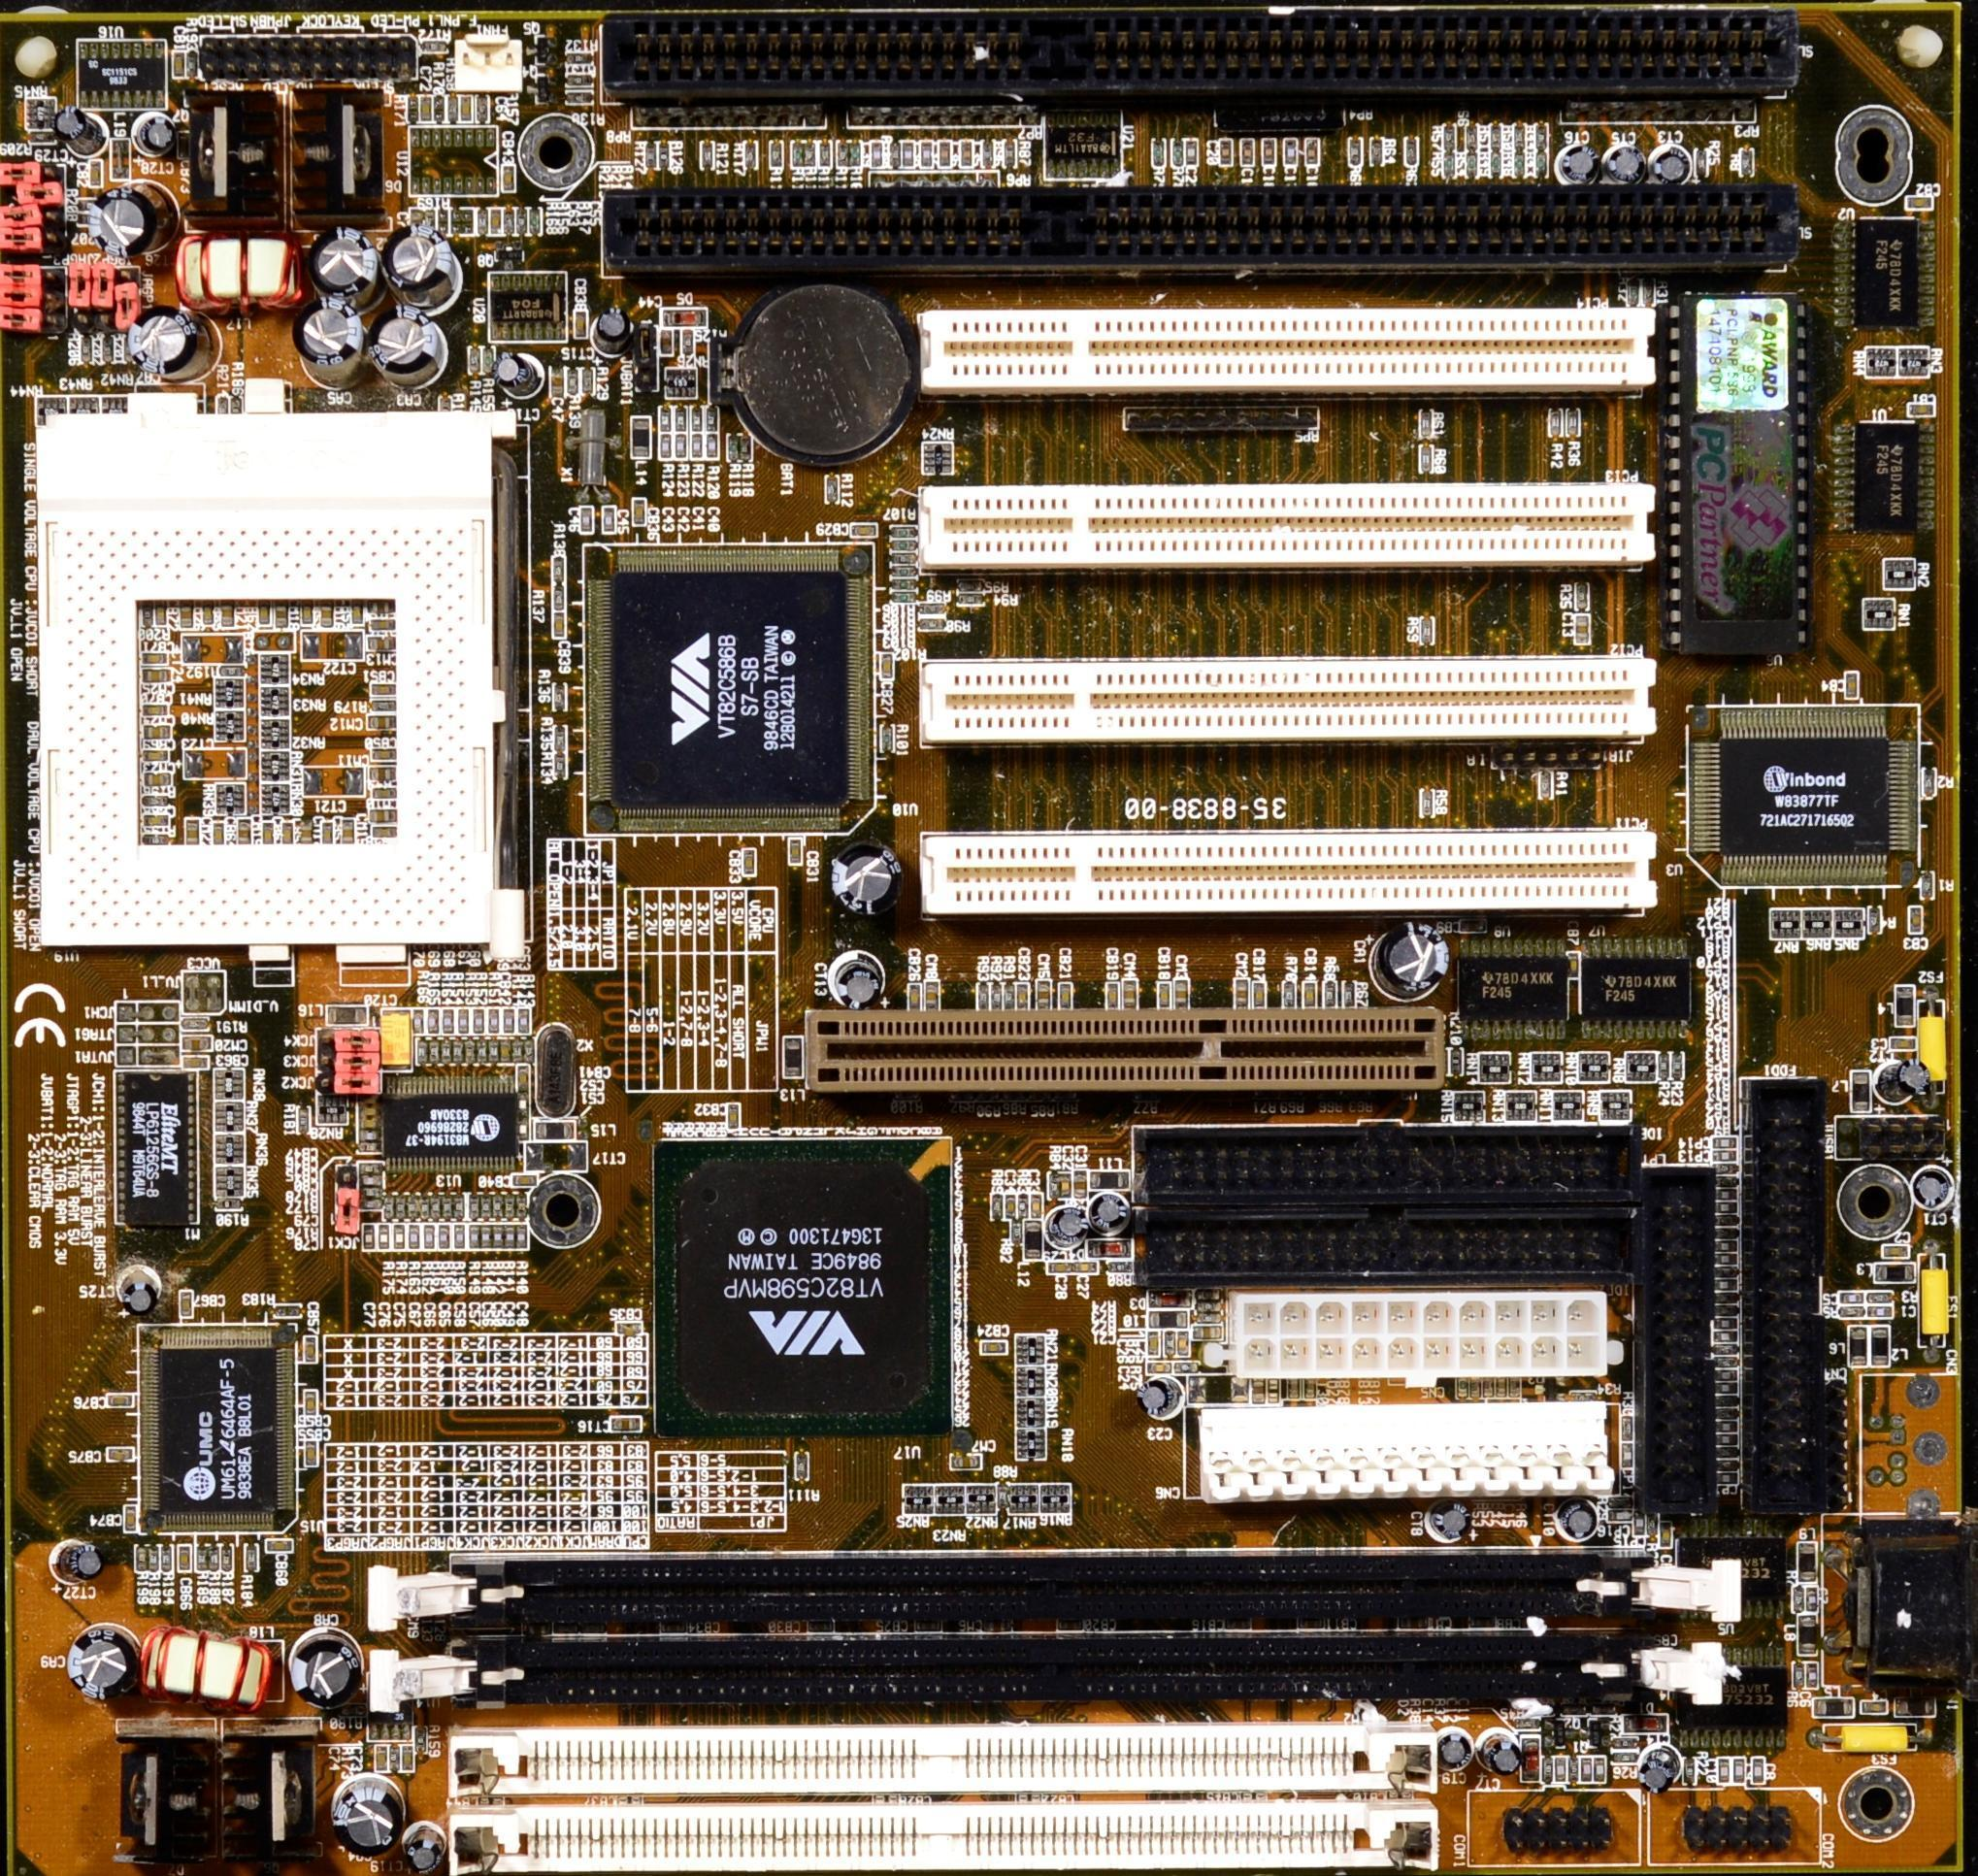Capacitor: (128, 295, 208, 373), (335, 1772, 409, 1853), (291, 1631, 365, 1711), (96, 181, 175, 254), (370, 300, 445, 377), (295, 293, 360, 378), (391, 224, 454, 299), (66, 1627, 131, 1697), (309, 231, 369, 296), (130, 104, 181, 163), (56, 112, 103, 162), (54, 1539, 102, 1587), (407, 1828, 444, 1867), (1173, 975, 1190, 1010), (1123, 979, 1139, 1014), (1253, 982, 1269, 1013), (926, 981, 941, 1015), (1880, 1242, 1911, 1259), (610, 1417, 643, 1433), (951, 1455, 982, 1470), (1219, 137, 1234, 167), (548, 365, 563, 399), (179, 1290, 195, 1318), (1233, 978, 1247, 1010), (1037, 980, 1052, 1009), (457, 96, 473, 124), (511, 1173, 544, 1187), (1192, 1327, 1223, 1339), (399, 1745, 413, 1773), (1907, 403, 1935, 418), (1574, 616, 1590, 645), (1303, 977, 1317, 1007), (182, 1037, 213, 1051), (142, 669, 171, 682), (790, 836, 804, 866), (742, 845, 757, 875), (1262, 139, 1278, 166), (1283, 139, 1302, 162), (420, 96, 433, 124), (304, 1336, 317, 1365), (107, 1449, 135, 1464), (88, 159, 102, 187), (848, 523, 876, 538), (143, 725, 171, 740), (144, 772, 172, 786), (1159, 981, 1170, 1011), (633, 498, 645, 529), (879, 648, 893, 680), (1891, 1037, 1917, 1050), (980, 1340, 1007, 1355), (304, 1391, 317, 1418), (1106, 982, 1119, 1012), (1146, 1363, 1175, 1375), (1242, 138, 1256, 167), (178, 1543, 190, 1573), (1805, 1585, 1818, 1616), (179, 599, 191, 629), (184, 1057, 211, 1070), (1073, 1171, 1085, 1200), (107, 1393, 133, 1407), (123, 1504, 136, 1532), (1752, 1757, 1764, 1785), (576, 310, 587, 339), (276, 604, 288, 627), (174, 49, 186, 78), (367, 637, 395, 649), (140, 653, 167, 664), (367, 718, 394, 731), (143, 813, 172, 826), (1837, 1290, 1863, 1302), (1306, 141, 1319, 167), (266, 1540, 293, 1554), (375, 1745, 388, 1771), (1718, 1758, 1730, 1785), (1845, 672, 1859, 698), (142, 704, 168, 716), (238, 819, 250, 846), (185, 821, 198, 848), (1060, 982, 1071, 1011), (1031, 1193, 1041, 1222), (1867, 1308, 1896, 1320), (263, 820, 274, 849), (321, 604, 333, 627), (370, 618, 395, 632), (370, 769, 394, 780), (343, 819, 354, 845), (1019, 981, 1029, 1009), (1060, 1172, 1070, 1201), (1005, 1193, 1016, 1221), (1147, 1332, 1159, 1360), (142, 750, 169, 760), (411, 209, 420, 242), (1048, 1261, 1072, 1273), (372, 750, 395, 761), (156, 602, 167, 627), (369, 810, 394, 822), (1188, 139, 1198, 169), (615, 1323, 641, 1333), (504, 164, 514, 189), (258, 603, 268, 627), (300, 820, 311, 845), (1911, 910, 1921, 935), (908, 983, 917, 1011), (1073, 1263, 1097, 1273), (351, 602, 362, 625), (321, 821, 332, 845), (300, 605, 313, 625), (1179, 1331, 1189, 1358), (607, 510, 616, 531), (204, 601, 213, 626), (373, 685, 396, 694), (372, 828, 396, 838), (283, 821, 292, 846), (214, 823, 223, 847), (223, 603, 232, 626), (373, 790, 394, 799)
Connector: (597, 13, 1792, 93), (451, 1630, 1663, 1708), (604, 187, 1792, 265), (454, 1556, 1649, 1630), (448, 1802, 1436, 1876), (451, 1725, 1439, 1795), (910, 304, 1652, 391), (920, 485, 1652, 566), (914, 835, 1656, 905), (920, 670, 1646, 738), (1186, 1398, 1618, 1501), (1143, 1206, 1636, 1294), (1735, 1077, 1830, 1517), (810, 1016, 1445, 1081), (1134, 1126, 1643, 1203), (1638, 1165, 1727, 1511), (1225, 1300, 1608, 1375), (1830, 1530, 1978, 1689), (203, 34, 420, 80)
IC: (652, 1133, 961, 1431), (584, 541, 873, 835), (1657, 294, 1807, 656), (1684, 702, 1918, 893), (138, 1323, 290, 1530), (115, 1074, 206, 1239), (380, 1076, 514, 1170), (1459, 937, 1569, 1043), (1830, 423, 1936, 533), (1674, 1641, 1784, 1745), (1834, 217, 1937, 327), (1582, 938, 1688, 1040), (1676, 1520, 1783, 1620), (77, 38, 166, 109), (489, 271, 570, 345), (1043, 112, 1125, 180), (1791, 1660, 1804, 1691)
Resistor: (1564, 405, 1582, 443), (1323, 976, 1337, 1013), (954, 577, 990, 594), (1919, 873, 1936, 903), (485, 1009, 502, 1037), (455, 208, 472, 236), (915, 619, 950, 633), (1281, 979, 1297, 1009), (1420, 408, 1434, 437), (1420, 614, 1434, 643), (1005, 983, 1018, 1017), (1370, 136, 1383, 169), (421, 210, 436, 244), (826, 475, 841, 509), (915, 603, 952, 615), (501, 1007, 516, 1035), (437, 1224, 452, 1252), (1104, 1259, 1137, 1272), (769, 141, 785, 169), (818, 142, 834, 170), (219, 1547, 234, 1575), (706, 406, 720, 434), (738, 438, 753, 465), (1922, 768, 1936, 799), (566, 73, 594, 87), (515, 1008, 532, 1034), (181, 1016, 215, 1029), (296, 1105, 311, 1135), (1162, 1330, 1175, 1360), (230, 396, 244, 427), (889, 573, 918, 587), (515, 1224, 530, 1250), (1005, 143, 1020, 169), (660, 437, 675, 463), (992, 981, 1005, 1014), (581, 365, 595, 399), (835, 141, 847, 169), (902, 142, 914, 169), (936, 142, 950, 169), (1740, 147, 1754, 174), (1593, 1757, 1605, 1785), (673, 406, 688, 434), (888, 524, 916, 539), (1539, 772, 1553, 801), (470, 1009, 485, 1034), (1171, 139, 1184, 171), (790, 139, 803, 171), (1541, 1755, 1554, 1786), (530, 206, 543, 238), (728, 434, 740, 465), (888, 540, 920, 552), (1342, 980, 1355, 1006), (408, 92, 417, 126), (406, 1224, 419, 1250), (805, 143, 817, 169), (919, 143, 933, 170), (1805, 1664, 1819, 1692), (567, 365, 577, 401), (1422, 445, 1436, 473), (1574, 583, 1588, 609), (565, 92, 595, 105), (434, 94, 446, 124), (1048, 1171, 1061, 1201), (1537, 124, 1550, 155), (1153, 139, 1165, 169), (745, 141, 758, 172), (1791, 1585, 1804, 1615), (103, 333, 115, 364), (880, 724, 893, 755), (658, 408, 674, 431), (796, 1452, 807, 1484), (703, 141, 714, 175), (412, 1008, 424, 1033), (425, 1009, 439, 1034), (478, 96, 490, 124), (443, 1193, 454, 1220), (362, 1224, 375, 1248), (377, 1223, 389, 1251), (646, 141, 659, 170), (246, 1544, 258, 1573), (1612, 1737, 1639, 1750), (1580, 1757, 1593, 1784), (215, 394, 228, 422), (690, 434, 704, 458), (703, 434, 718, 458), (675, 438, 689, 462), (958, 595, 986, 607), (1420, 791, 1434, 816), (141, 833, 170, 845), (848, 140, 859, 171), (1549, 407, 1561, 440), (187, 48, 198, 79), (456, 1009, 469, 1036), (1867, 1293, 1894, 1304), (1442, 122, 1455, 148), (1348, 139, 1361, 166), (961, 141, 973, 167), (982, 143, 995, 169), (161, 1545, 173, 1571), (135, 1546, 148, 1572), (1611, 1752, 1637, 1764), (1683, 1759, 1696, 1785), (516, 209, 529, 235), (419, 40, 446, 53), (566, 50, 593, 64), (891, 589, 917, 602), (141, 794, 167, 806), (140, 605, 153, 627), (660, 142, 670, 171), (889, 555, 919, 566), (465, 1041, 482, 1059), (1732, 1758, 1745, 1782), (469, 348, 480, 375), (370, 699, 394, 710), (440, 1041, 452, 1063), (992, 1193, 1003, 1221), (1010, 1218, 1021, 1246), (424, 1221, 435, 1248), (1466, 124, 1475, 151), (148, 1544, 158, 1572), (415, 1727, 426, 1754), (502, 208, 513, 236), (478, 209, 489, 236), (978, 981, 987, 1013), (492, 1225, 505, 1249), (1514, 124, 1524, 154), (1406, 135, 1416, 167), (196, 1544, 207, 1571), (1490, 149, 1500, 177), (1696, 148, 1705, 180), (437, 210, 447, 236), (484, 347, 496, 375), (497, 1042, 511, 1062), (394, 1222, 404, 1252), (443, 1009, 453, 1034), (395, 1195, 405, 1221), (419, 1195, 430, 1221), (452, 1222, 464, 1247), (479, 1226, 491, 1247), (470, 1224, 479, 1249), (1195, 1311, 1220, 1322), (1556, 1757, 1566, 1781), (454, 1192, 463, 1220), (493, 1195, 503, 1223), (506, 1222, 515, 1250), (1839, 1307, 1866, 1316), (1492, 124, 1500, 151), (869, 141, 878, 169), (890, 567, 925, 573), (415, 1042, 427, 1065), (431, 1195, 442, 1219), (516, 1197, 528, 1220), (406, 1197, 415, 1221), (215, 1201, 241, 1210), (1197, 1302, 1223, 1311), (81, 336, 90, 362), (429, 1043, 439, 1065), (447, 95, 455, 126), (1443, 153, 1455, 175), (523, 1037, 532, 1061), (209, 1546, 216, 1570), (1467, 152, 1475, 176), (1568, 1757, 1577, 1781), (689, 408, 699, 433), (469, 1196, 478, 1219), (505, 1197, 512, 1221), (511, 1040, 520, 1062), (480, 1195, 490, 1217), (1018, 1194, 1027, 1221), (1538, 155, 1547, 177), (390, 1744, 397, 1770), (484, 1038, 491, 1064), (454, 1038, 462, 1062), (385, 1195, 393, 1218), (1514, 155, 1522, 177), (491, 1041, 498, 1065)
